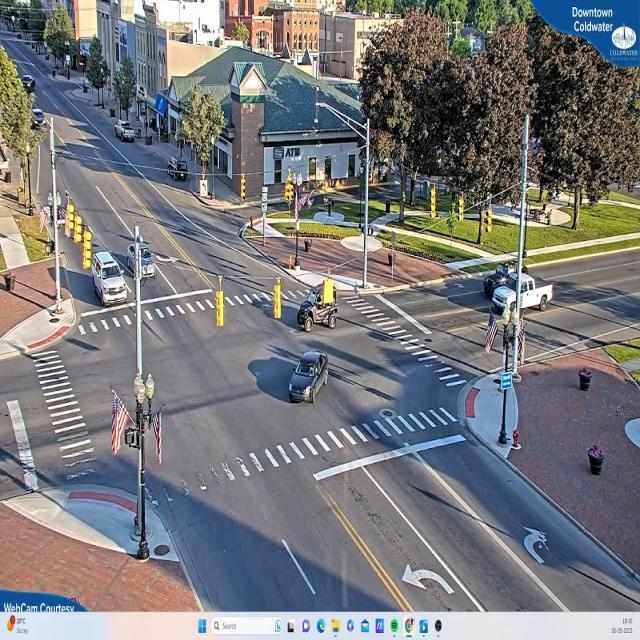car: (494, 272, 554, 320), (293, 284, 338, 335), (289, 352, 326, 404), (92, 255, 128, 307), (484, 255, 526, 294), (126, 238, 158, 278), (115, 123, 136, 143), (32, 111, 43, 130)
